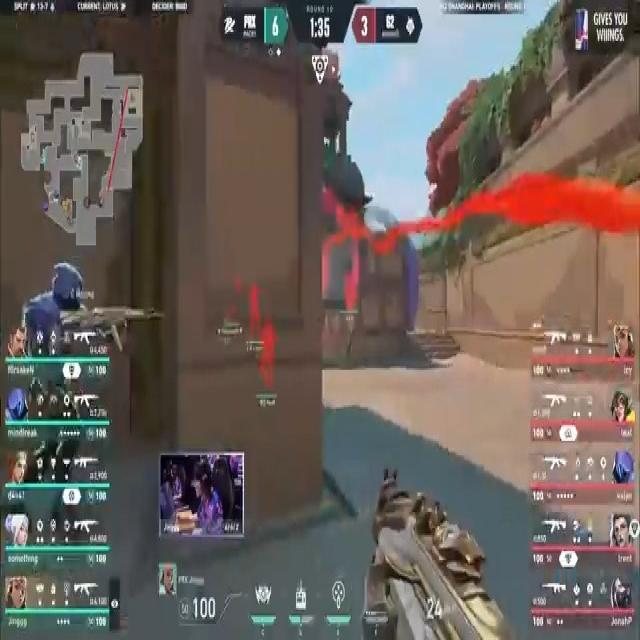ally: (22, 254, 98, 529)
